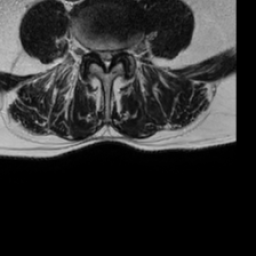CCS_normal: (102, 46, 109, 74)
LFS_severe_stenosis: (116, 44, 124, 63)
LLS_stenosis: (109, 45, 116, 64)
RFS_severe_stenosis: (89, 44, 97, 60)
RLS_severe_stenosis: (96, 45, 103, 64)
